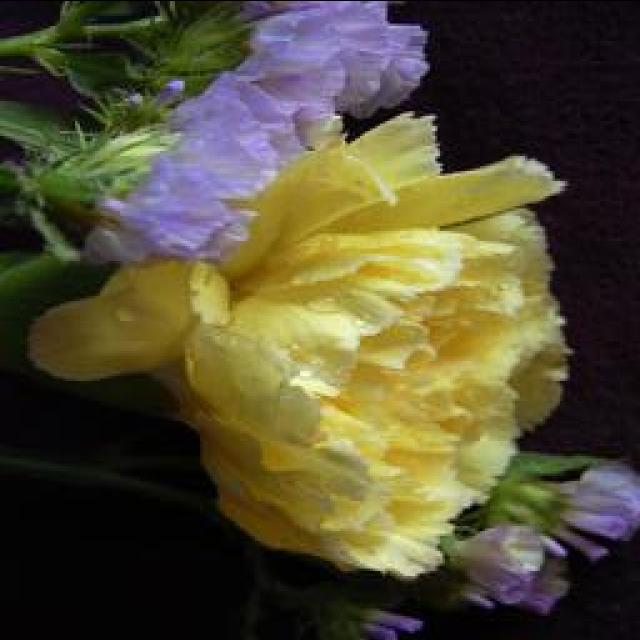carnation: (152, 138, 578, 600)
